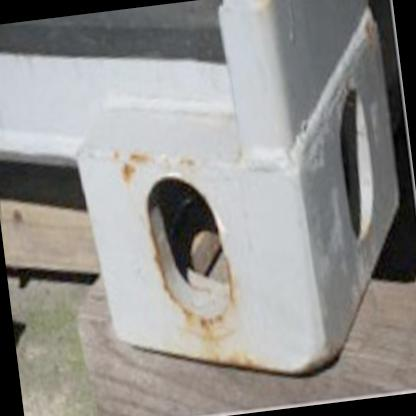CornerCasting: (63, 13, 415, 402)
